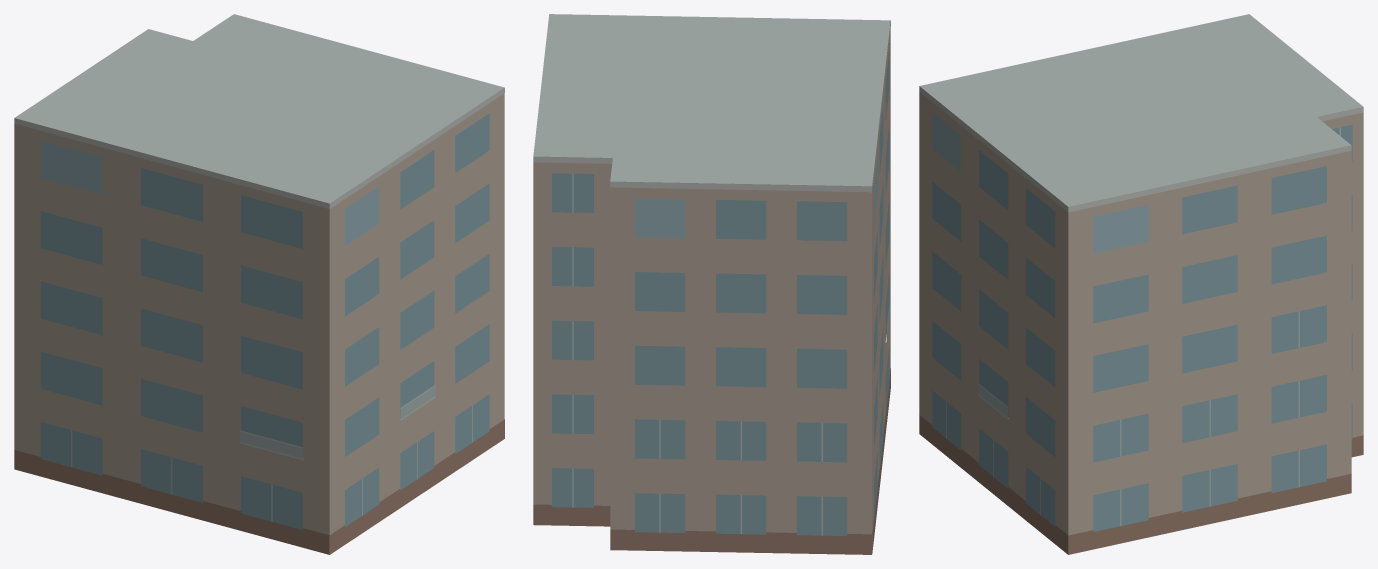
File: survey-upis-32639231.glb
3 renders of one model, left to right at view 1: azimuth 30°, elevation 25°; view 2: azimuth 150°, elevation 25°; view 3: azimuth 270°, elevation 25°, orthographic. The views are drawn at different scales.
Parts seen in each view (by area): view 1: survey-upis-32639231.tmp; view 2: survey-upis-32639231.tmp; view 3: survey-upis-32639231.tmp.
Boxes of the visible parts, box(x1,y1,x2,y2) form: survey-upis-32639231.tmp: box(14, 14, 504, 554); survey-upis-32639231.tmp: box(533, 14, 890, 554); survey-upis-32639231.tmp: box(919, 14, 1363, 554).
Bounding box in the file's own units: 18.14 × 15.25 × 17.66.
